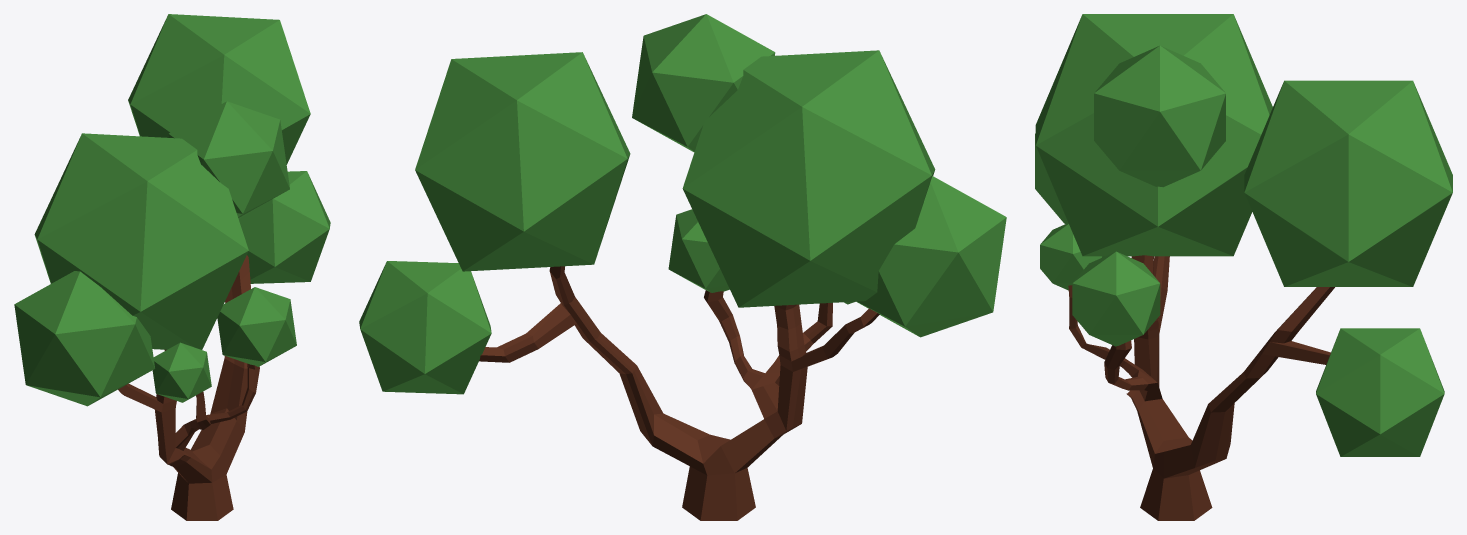
Rendered from Arbre1.glb.
The picture shows the model from 3 angles, left to right: view 1: azimuth 30°, elevation 25°; view 2: azimuth 150°, elevation 25°; view 3: azimuth 270°, elevation 25°; orthographic projection. The views are drawn at different scales.
Visible parts, largest first — view 1: Circle; view 2: Circle; view 3: Circle.
Part boxes in pixels (box(x1,y1,x2,y2)): Circle: box(14, 14, 330, 520); Circle: box(359, 14, 1006, 520); Circle: box(1035, 14, 1452, 520).
Size of the model in its own units: 28.25 by 26.21 by 21.02.
